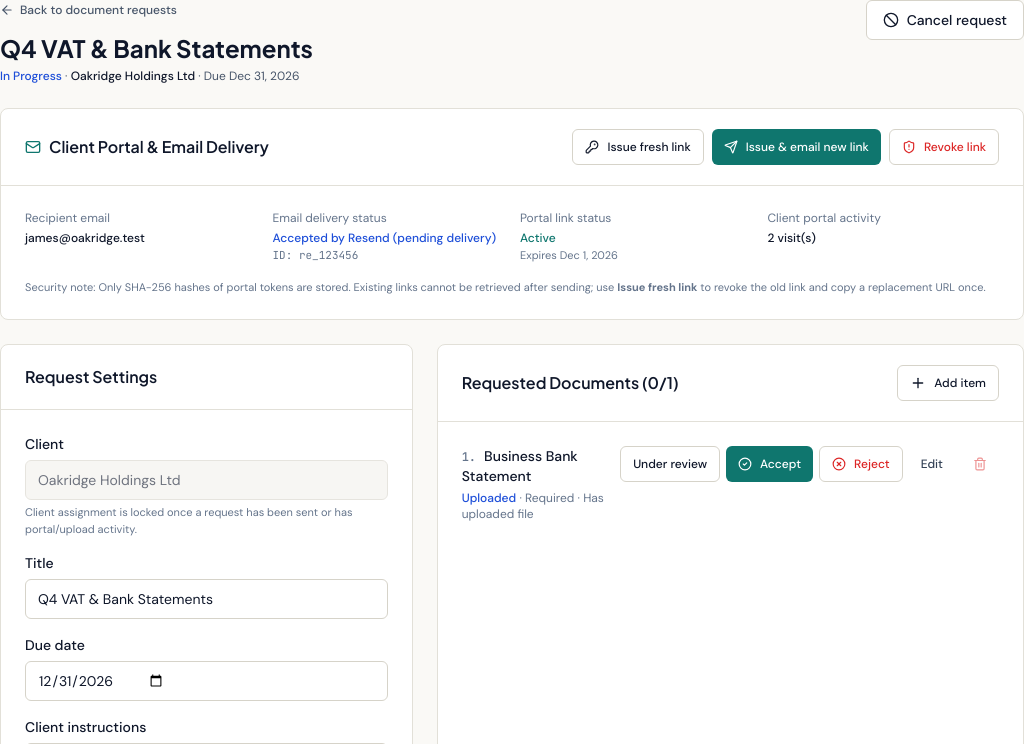
Phase 1 Portal & Request Detail UI › renders RequestDetailPage email status, portal controls, one-time link dialog, and submitted files
Check: the text "james@oakridge.test" is shown, box 25,230 -> 145,246
Check: the text "Accepted by Resend (pending delivery)" is shown, box 272,230 -> 496,246
Step 1. Click the button "Issue fresh link" → click(638, 147), box 572,129 -> 704,165
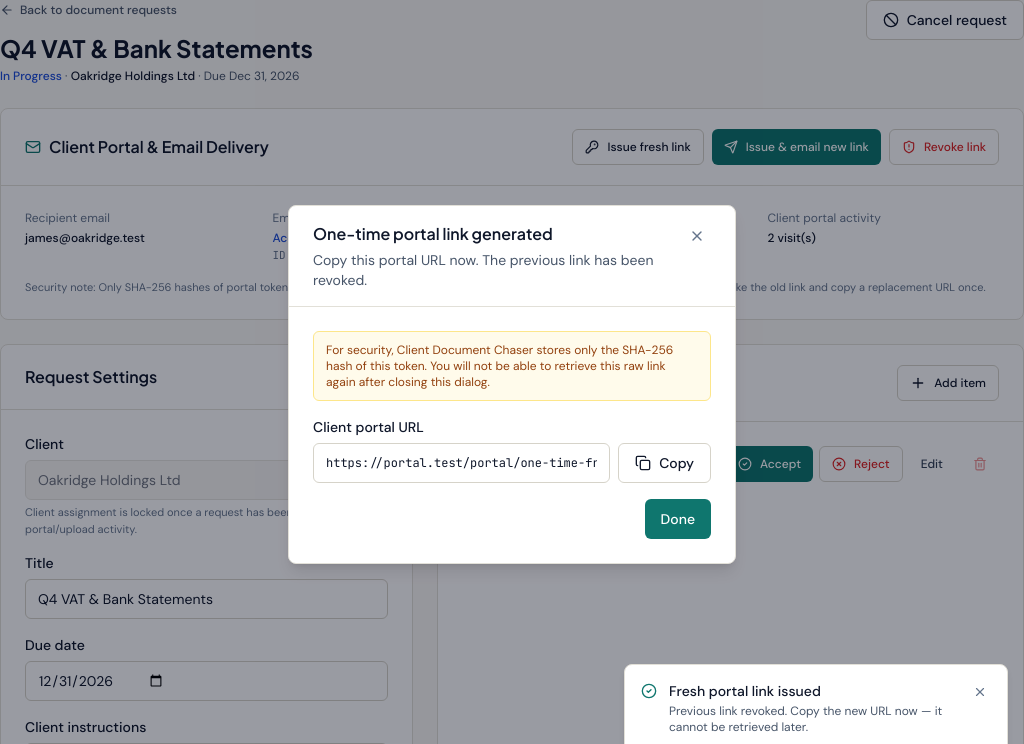
Check: the heading "One-time portal link generated" is shown, box 313,222 -> 553,244
Check: the field showing "https://portal.test/portal/one-time-fresh-token" is shown, box 313,442 -> 610,482
Check: the text "stores only the SHA-256 hash" is shown, box 326,342 -> 673,390
